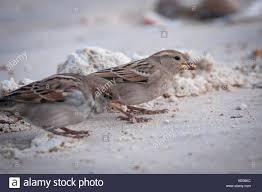home_sparrow: (0, 67, 117, 149), (92, 46, 204, 123)
